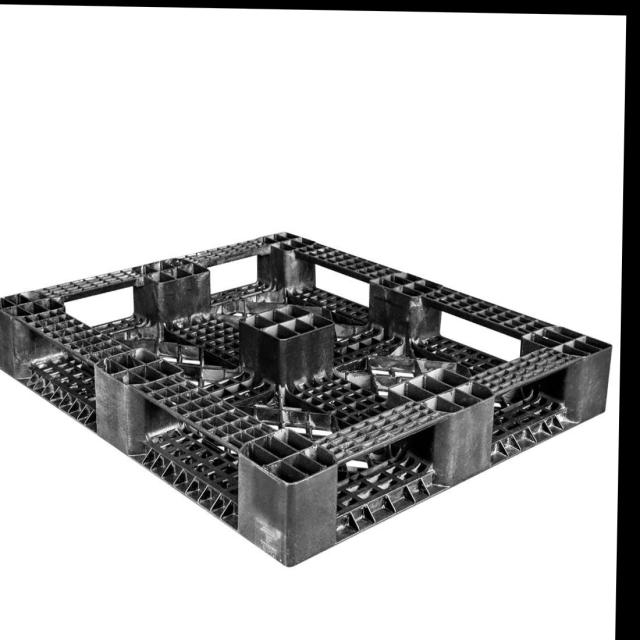non-igps: (0, 227, 617, 576)
